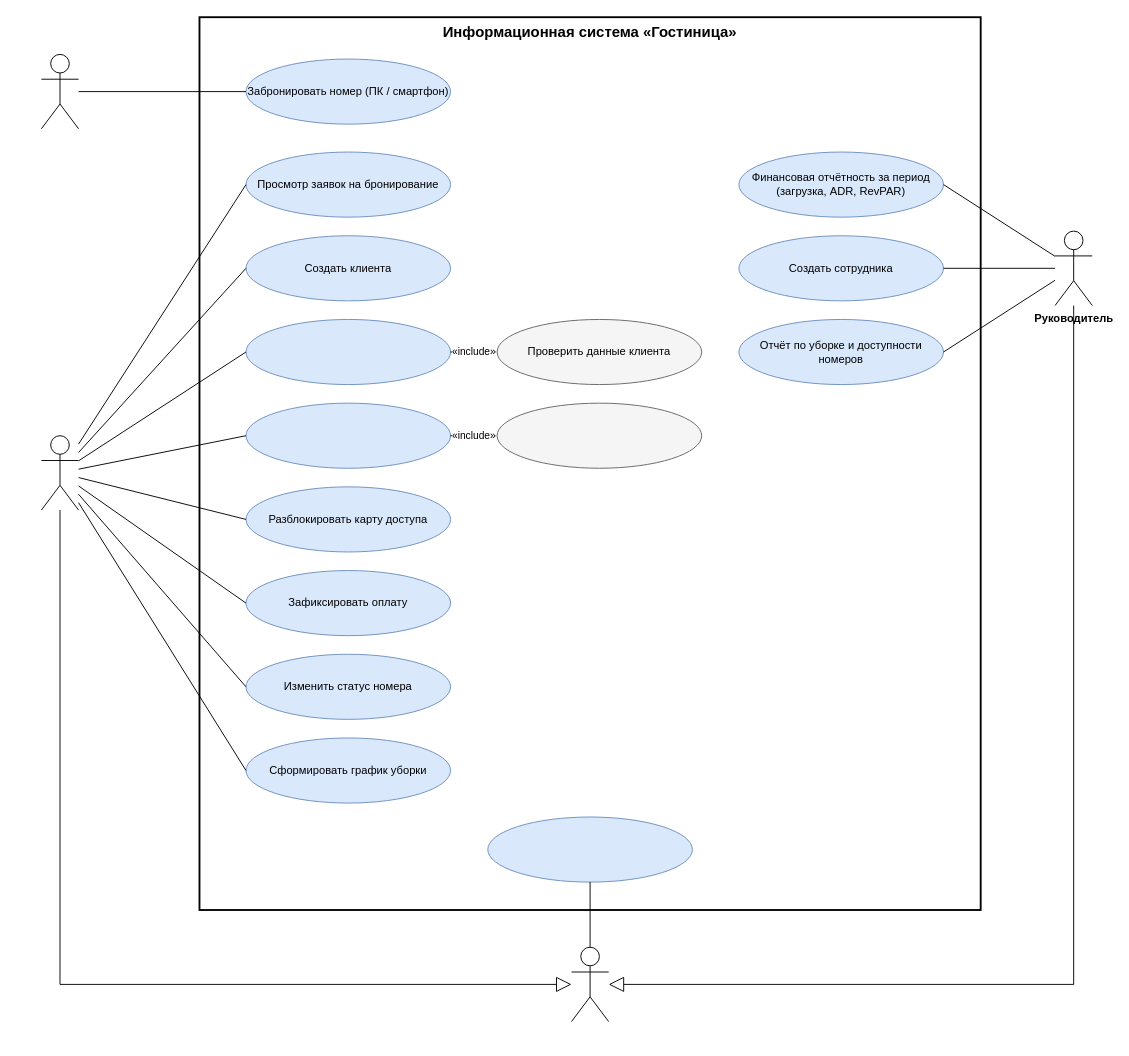
This 1129x1056 diagram has some shape labels left out. Each missing label, with the centre of its shape:
Авторизоваться: (x=589, y=849)
Администратор: (x=59, y=472)
Активировать карту доступа: (x=599, y=435)
Гость (клиент): (x=59, y=91)
Оформить заезд: (x=348, y=435)
Создать бронирование: (x=348, y=352)
Сотрудник гостиницы: (x=590, y=984)
